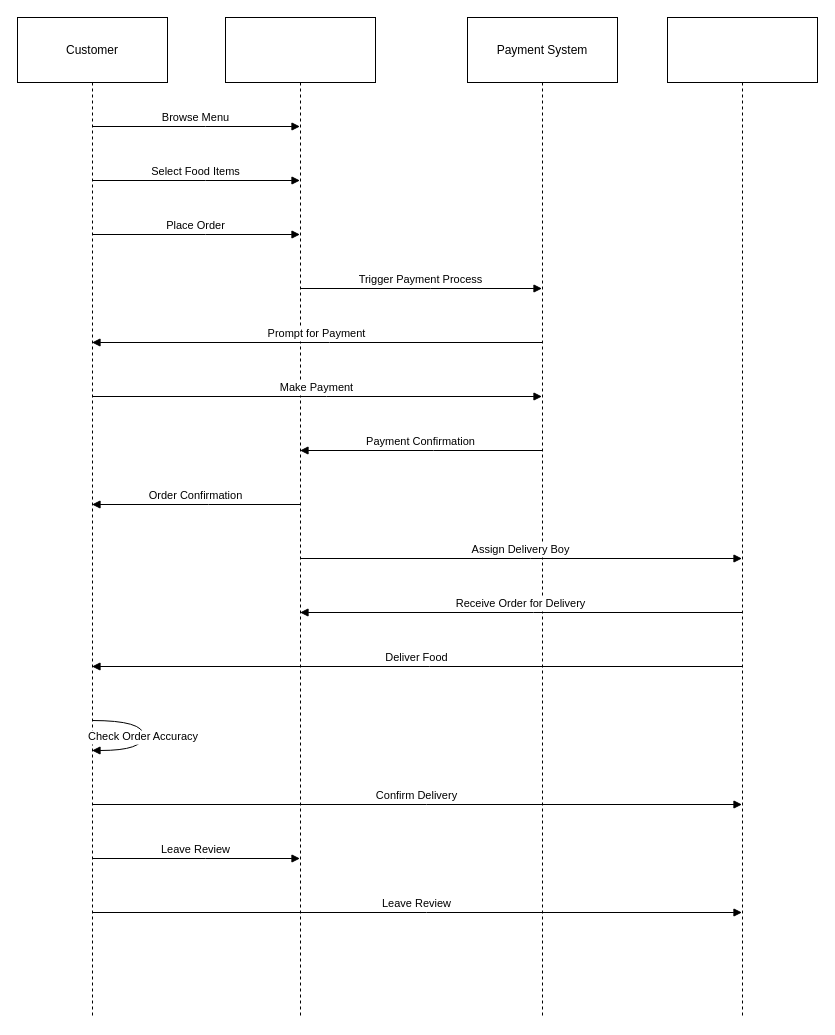
Image size: 835x1035. Some labels were removed from this diagram. The shapes that lost their labels are listed below. From the top down, each one's box as (x1, y1, x2, y2) in pixels, then its label:
(224, 16, 376, 1018): Restaurant
(666, 16, 818, 1018): Delivery Boy
